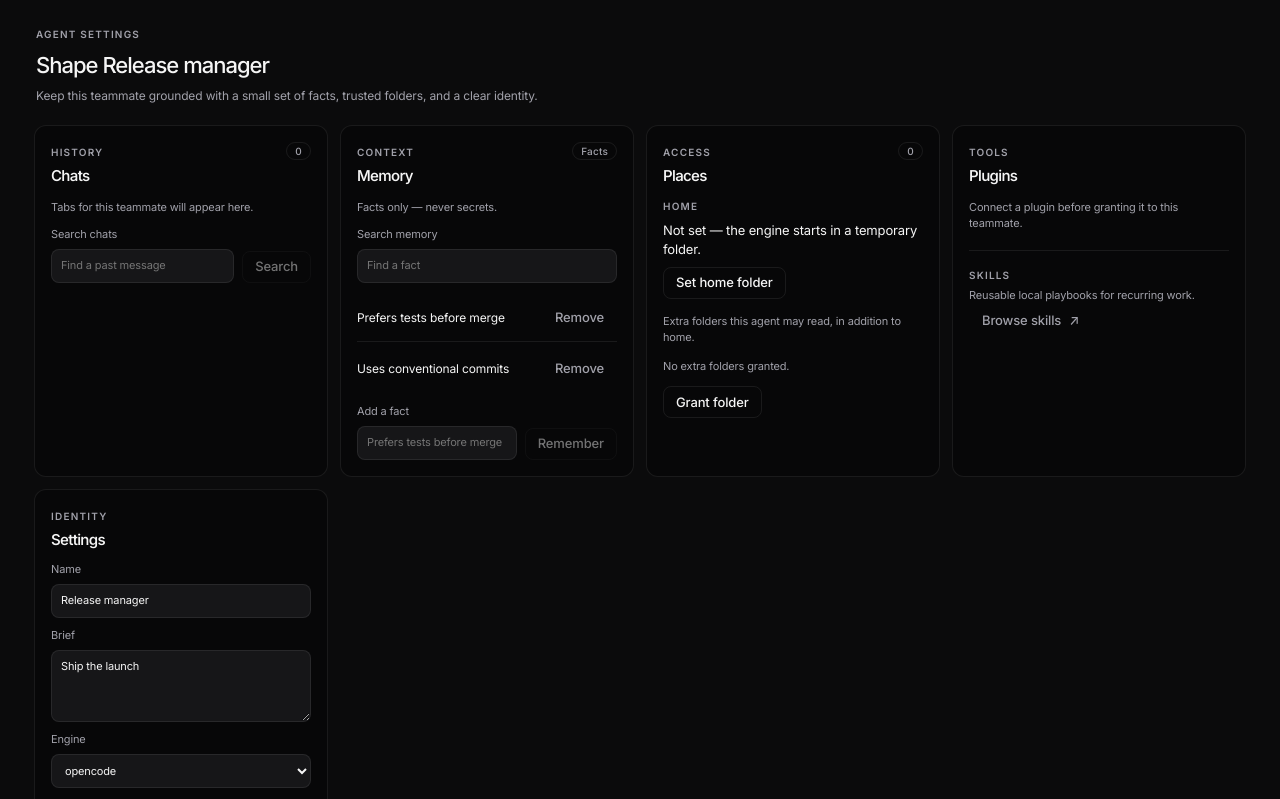
Test: removes a visible fact while a filter is active
The width and height of the screenshot is (1280, 799).
Expected: the text "Prefers tests before merge" is shown, [357,309,505,327]
Type "commit" into the field labelled "Search memory" at (487, 266), box [357,249,617,283]
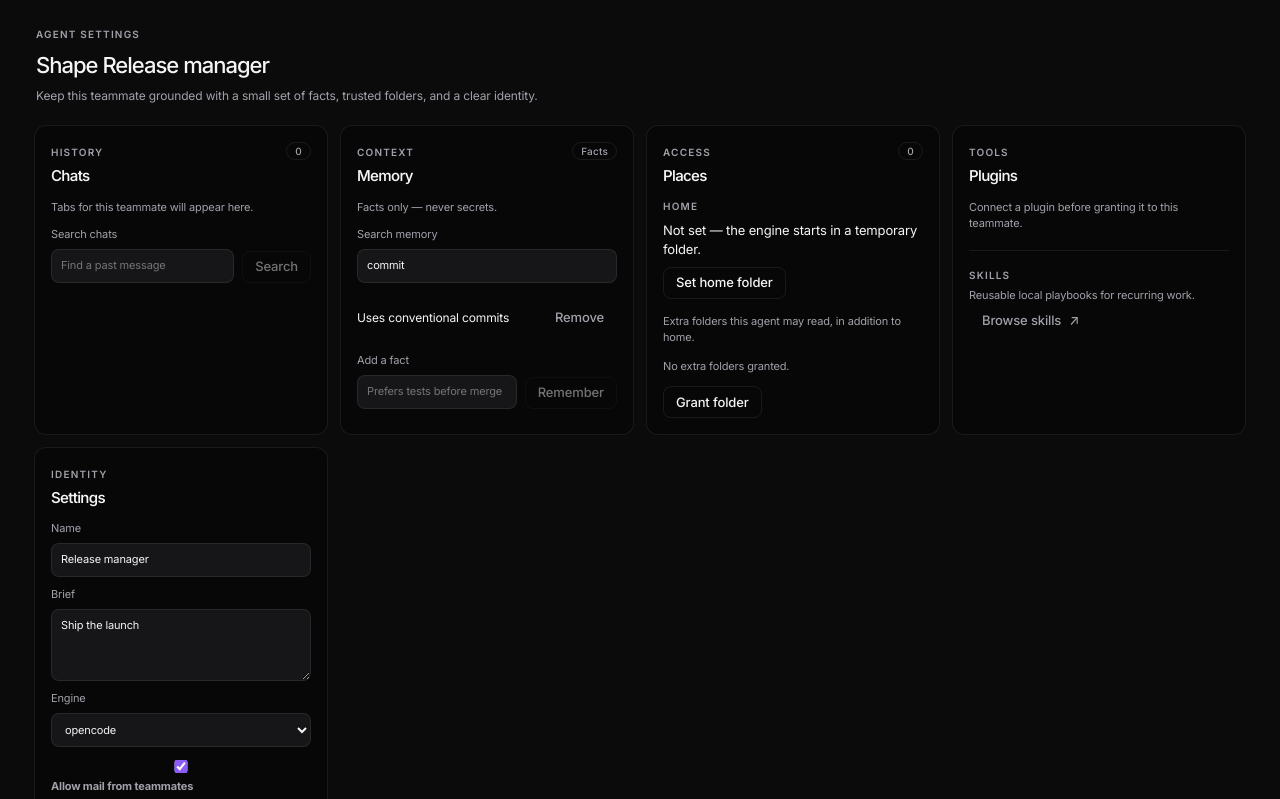
Expected: the text "Uses conventional commits" is shown, [357,309,509,327]
Click the button "Remove" at (579, 318), box [542,302,617,334]
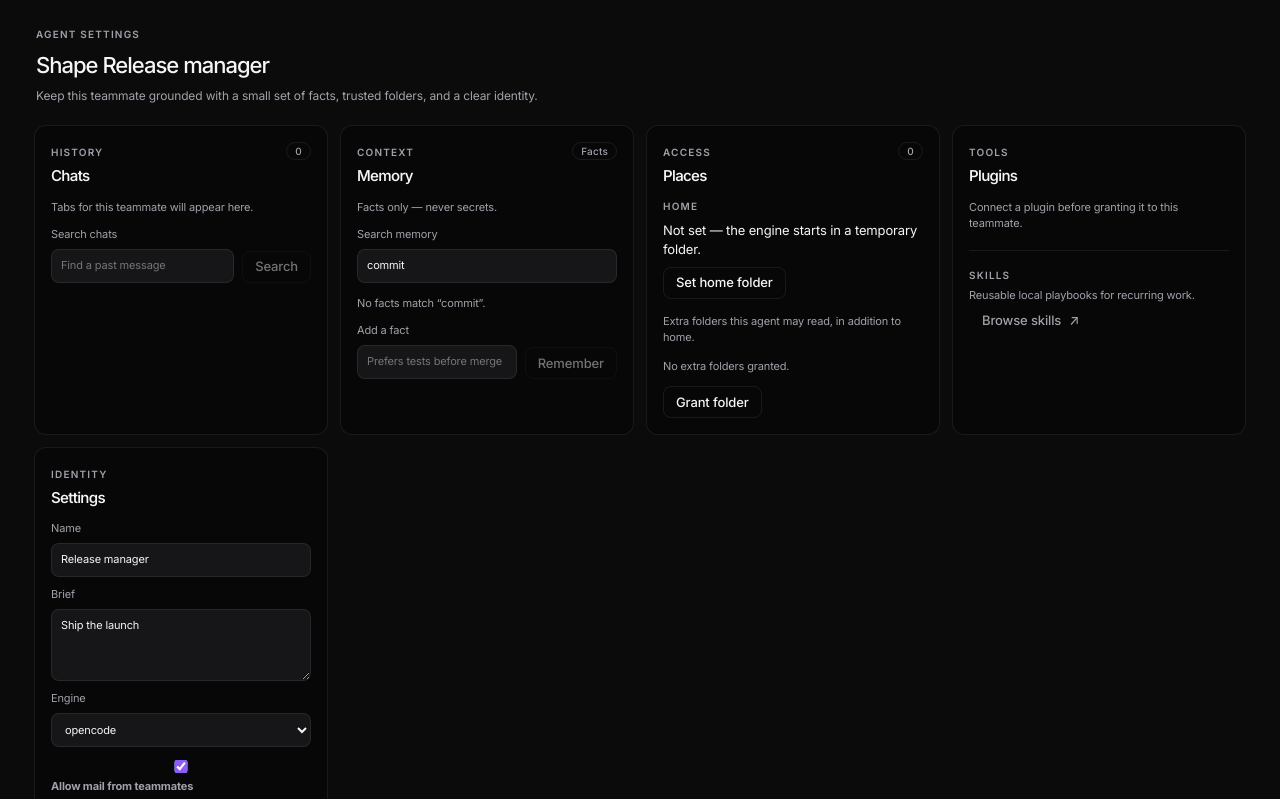
Now the text "Uses conventional commits" is gone
Now the text "No facts match “commit”." is shown, box [357,296,485,310]
